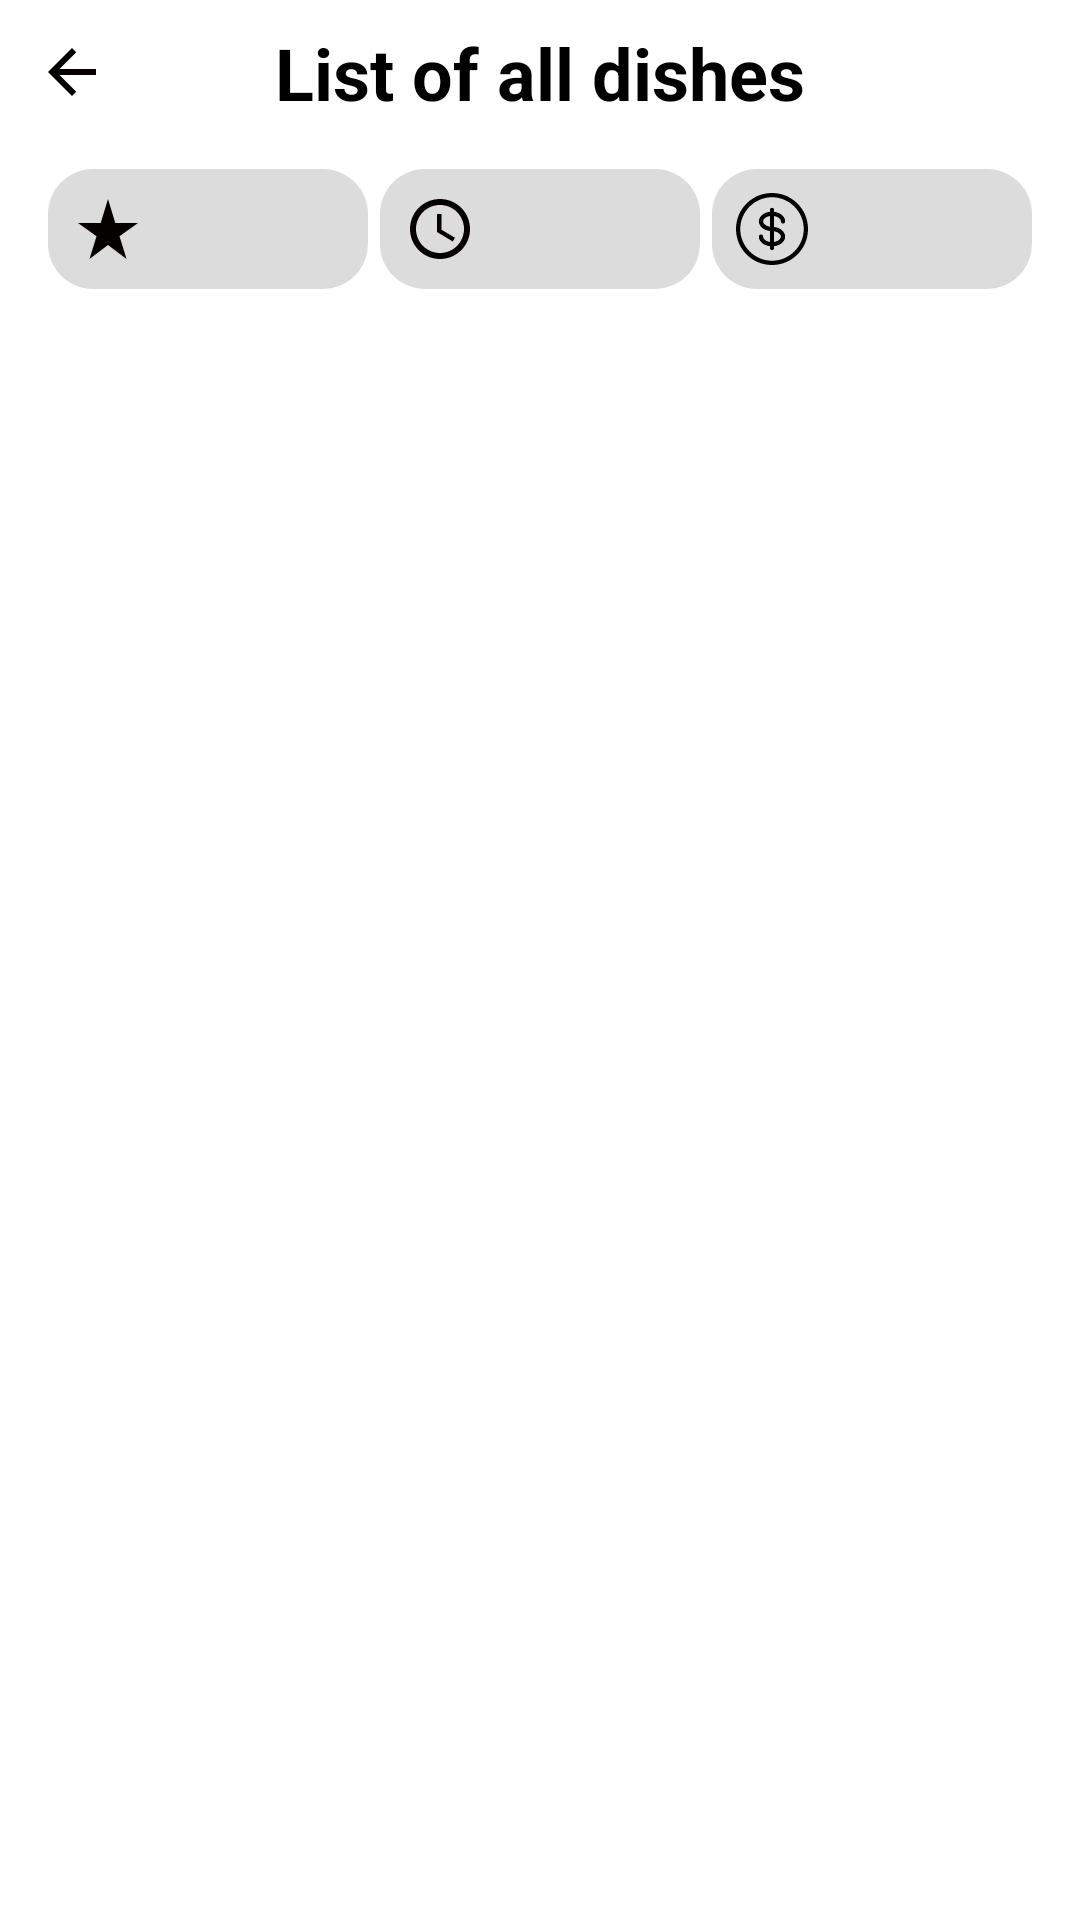

Named icons in this screenshot (1080×1920) and their centers, (x,y):
access timer: (440,229)
back: (72,72)
dollar: (772,229)
star rate: (108,229)
